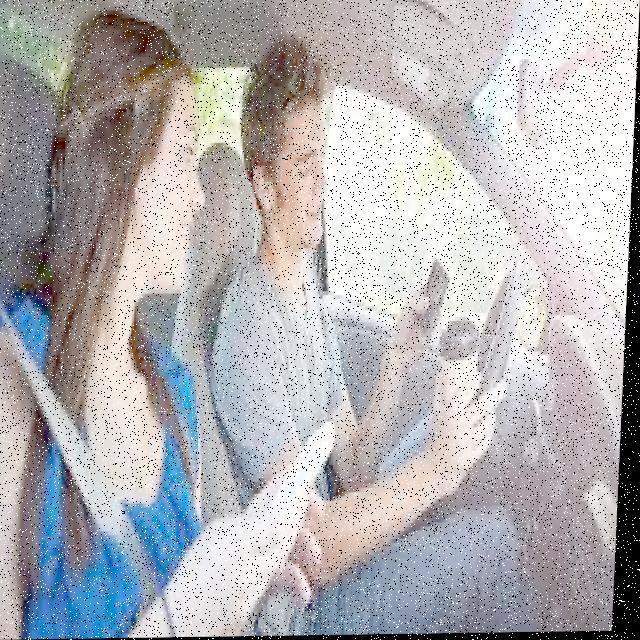noSeatbelt: (226, 248, 369, 473)
seatbelt: (0, 326, 205, 620)
